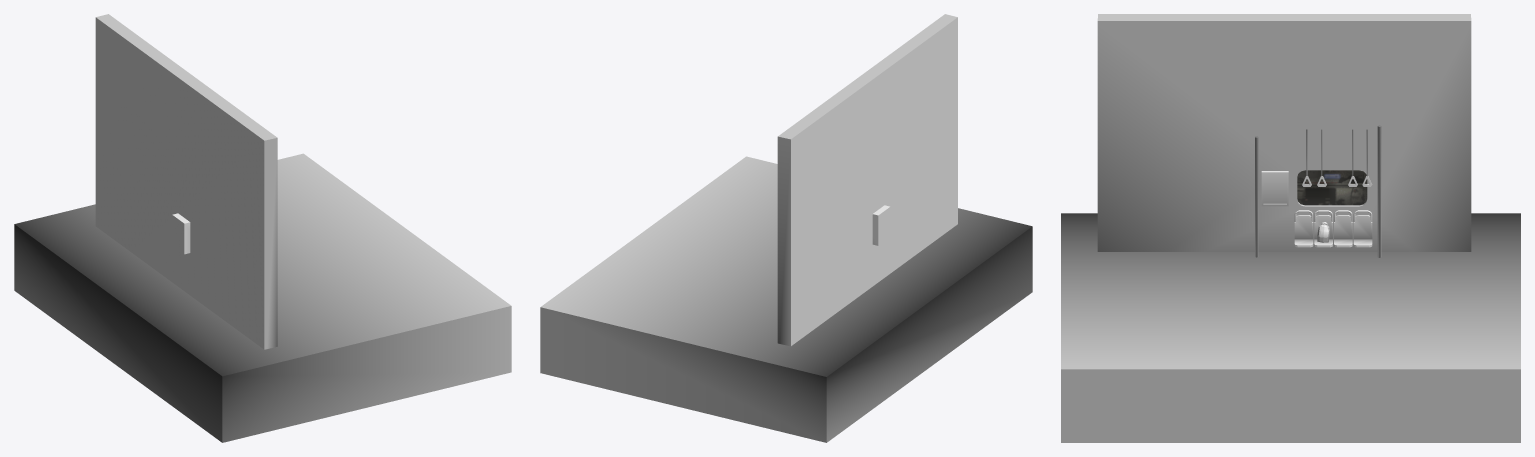
File: keyart.fbx
3 renders of one model, left to right at view 1: azimuth 30°, elevation 25°; view 2: azimuth 150°, elevation 25°; view 3: azimuth 270°, elevation 25°, orthographic. The views are drawn at different scales.
Parts seen in each view (by area): view 1: Cube, Cube.003; view 2: Cube, Cube.003; view 3: Cube, Cube.001, Cube.003, Cylinder.001, Cylinder.003.
Part boxes in pixels (x1,y1,x2,y2): Cube: (14, 14, 511, 442); Cube.003: (172, 213, 190, 254); Cube: (540, 14, 1032, 442); Cube.003: (872, 205, 890, 245); Cube: (1061, 14, 1520, 442); Cube.001: (1294, 210, 1372, 247); Cube.003: (1261, 171, 1288, 206); Cylinder.001: (1377, 125, 1381, 257); Cylinder.003: (1255, 136, 1258, 257).
Bounding box in the file's own units: 3935 × 3585 × 4903.
8 materials, 1 textured.
